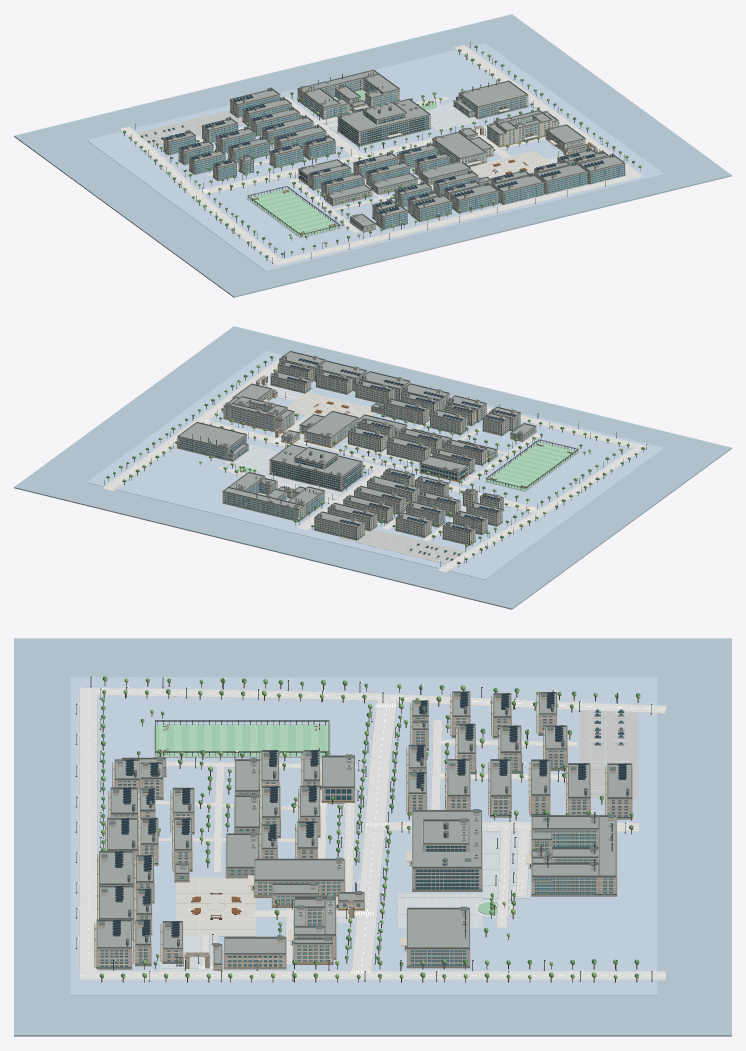
File: campus-buildings.glb
3 views of the same model, one above another, from view 1: azimuth 30°, elevation 25°; view 2: azimuth 150°, elevation 25°; view 3: azimuth 270°, elevation 25° (orthographic). The views are drawn at different scales.
Parts seen in each view (by area): view 1: Site_Ground, Roads_Surface, B_bio, B_tech, Trees, SportsField, B_chem, B_complex, B_career, Roads_Sidewalks, Plaza_同大广场, Plaza_西北停车场 (+34 smaller); view 2: Site_Ground, Roads_Surface, B_bio, B_tech, Trees, SportsField, B_chem, B_complex, Plaza_西北停车场, B_career, Roads_Sidewalks, Plaza_同大广场 (+32 smaller); view 3: Site_Ground, Roads_Surface, B_bio, Trees, SportsField, B_tech, Plaza_同大广场, Roads_Sidewalks, B_chem, B_career, Roads_Curbs, Plaza_西北停车场 (+43 smaller).
Boxes of the visible parts, x1=… form: Site_Ground: x1=14, y1=14, x2=731, y2=297; Roads_Surface: x1=120, y1=45, x2=643, y2=265; B_bio: x1=297, y1=69, x2=400, y2=119; B_tech: x1=337, y1=98, x2=430, y2=146; Trees: x1=123, y1=45, x2=641, y2=260; SportsField: x1=246, y1=186, x2=341, y2=238; B_chem: x1=453, y1=80, x2=528, y2=119; B_complex: x1=486, y1=110, x2=558, y2=147; B_career: x1=432, y1=131, x2=493, y2=167; Roads_Sidewalks: x1=120, y1=45, x2=643, y2=265; Plaza_同大广场: x1=470, y1=150, x2=551, y2=178; Plaza_西北停车场: x1=137, y1=110, x2=244, y2=146; Site_Ground: x1=14, y1=326, x2=731, y2=609; Roads_Surface: x1=102, y1=359, x2=647, y2=572; B_bio: x1=222, y1=472, x2=325, y2=521; B_tech: x1=269, y1=444, x2=363, y2=491; Trees: x1=106, y1=356, x2=644, y2=566; SportsField: x1=484, y1=439, x2=579, y2=491; B_chem: x1=177, y1=422, x2=248, y2=461; B_complex: x1=223, y1=396, x2=294, y2=433; Plaza_西北停车场: x1=339, y1=529, x2=465, y2=564; B_career: x1=299, y1=410, x2=358, y2=447; Roads_Sidewalks: x1=102, y1=357, x2=647, y2=572; Plaza_同大广场: x1=287, y1=392, x2=376, y2=417; Site_Ground: x1=14, y1=638, x2=731, y2=1036; Roads_Surface: x1=79, y1=687, x2=666, y2=979; B_bio: x1=525, y1=812, x2=617, y2=896; Trees: x1=99, y1=676, x2=640, y2=982; SportsField: x1=153, y1=720, x2=330, y2=757; B_tech: x1=406, y1=809, x2=482, y2=891; Plaza_同大广场: x1=176, y1=877, x2=255, y2=936; Roads_Sidewalks: x1=78, y1=687, x2=665, y2=980; B_chem: x1=400, y1=906, x2=470, y2=968; B_career: x1=248, y1=857, x2=345, y2=907; Roads_Curbs: x1=79, y1=687, x2=665, y2=979; Plaza_西北停车场: x1=580, y1=710, x2=638, y2=798.
Size of the model in its own units: 68 by 3.04 by 52.
